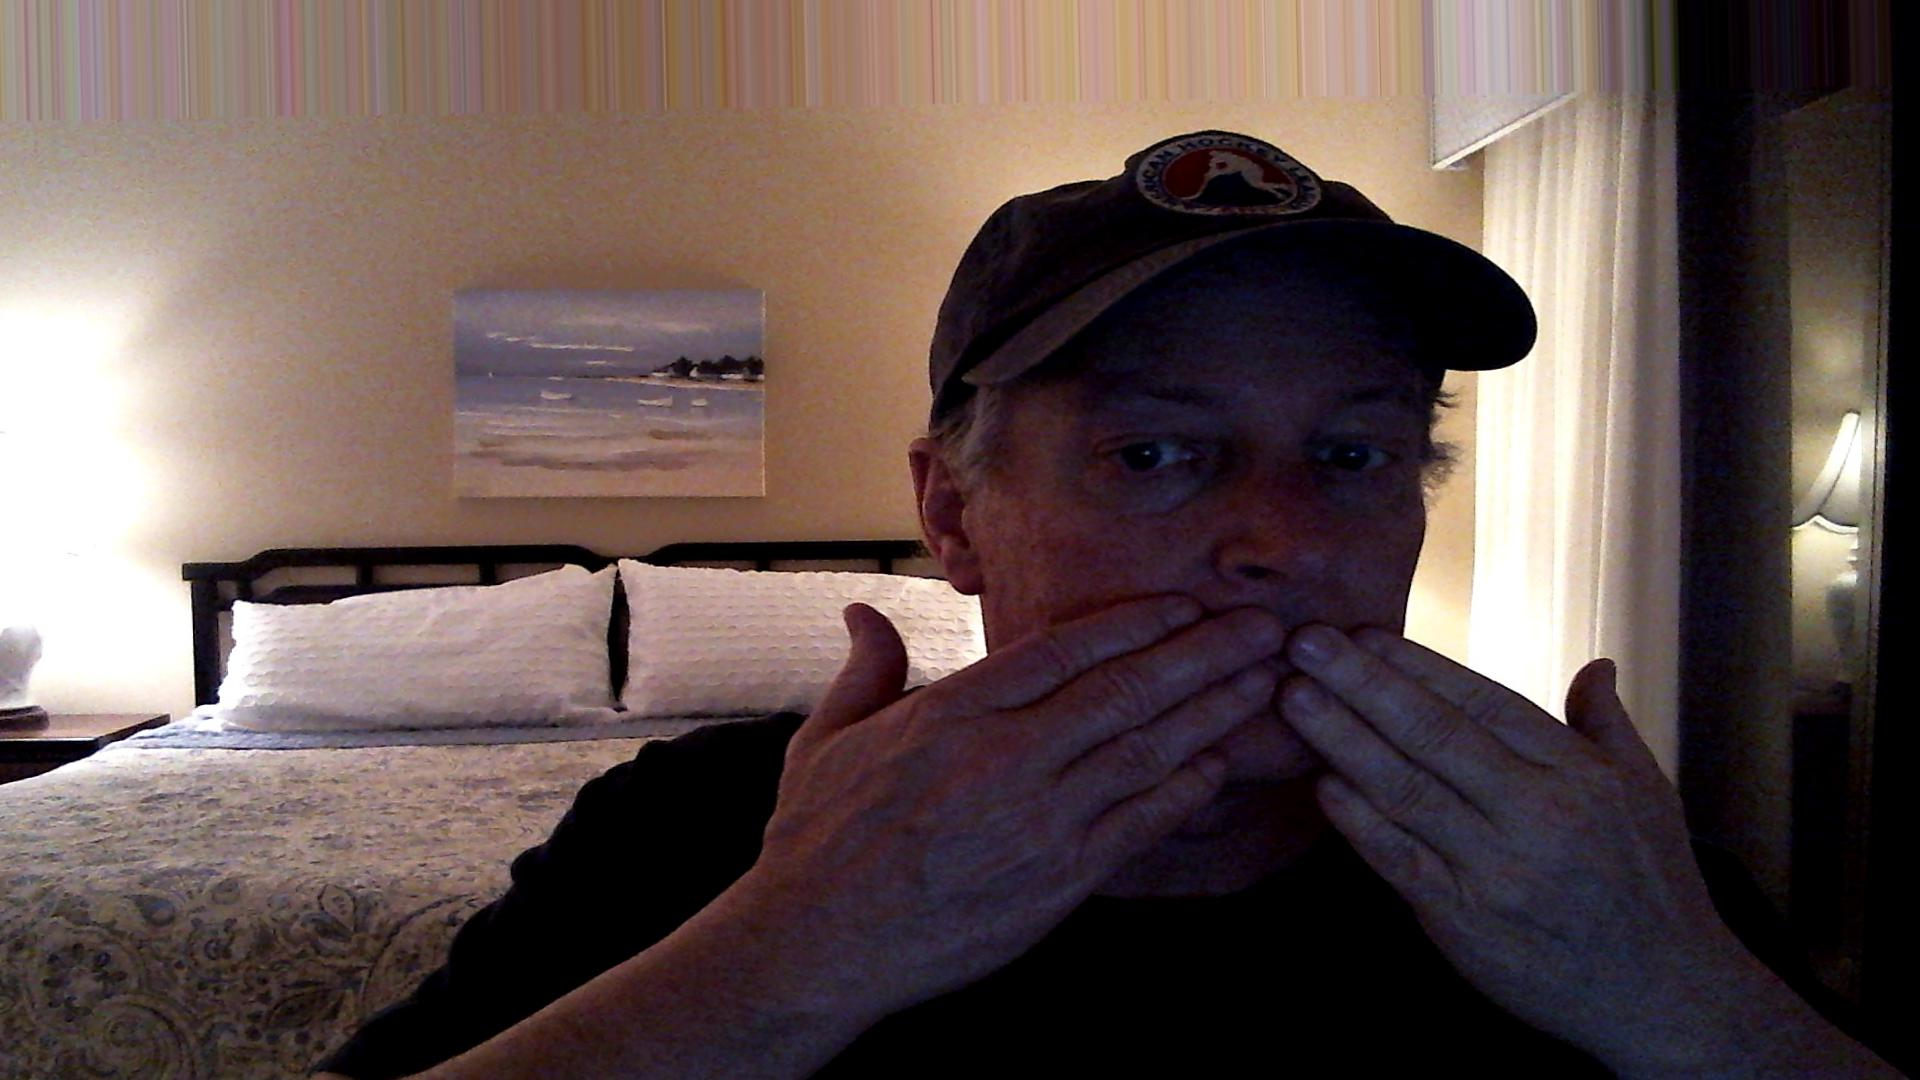Thank You: (753, 560, 1768, 971)
